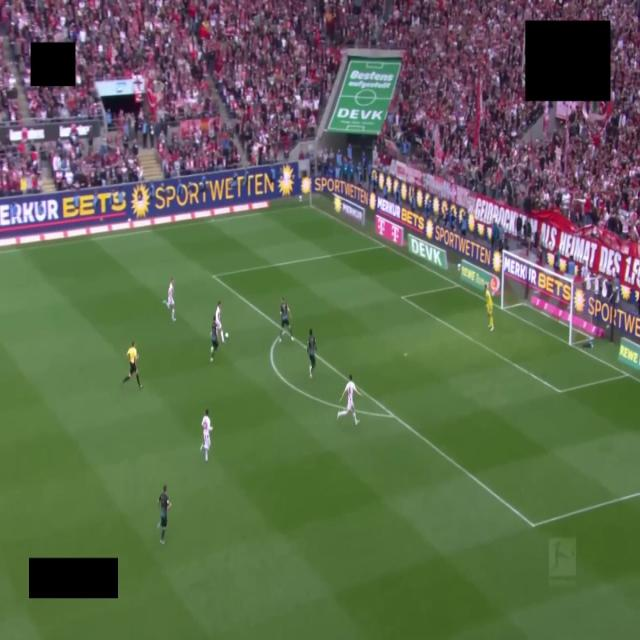ball: (225, 333, 228, 338)
player: (338, 375, 361, 424), (158, 485, 170, 544), (279, 297, 293, 341), (201, 409, 212, 462), (164, 278, 175, 321), (307, 329, 316, 378), (485, 285, 493, 331), (215, 302, 224, 342), (210, 317, 218, 361)
referee: (121, 342, 142, 388)
